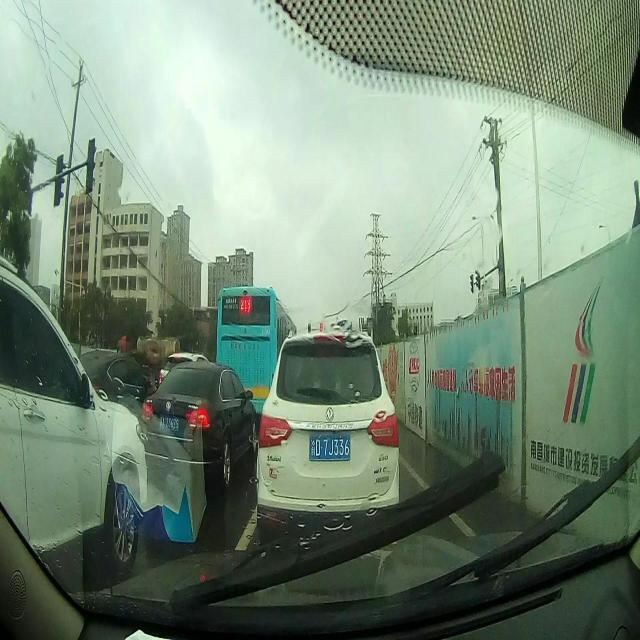car: (0, 254, 148, 574), (257, 328, 399, 537), (140, 360, 254, 488)
